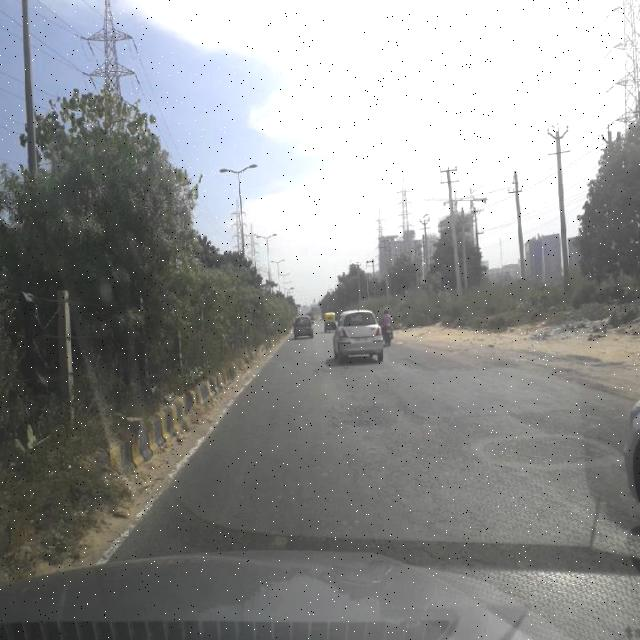D20: (149, 373, 624, 548)
